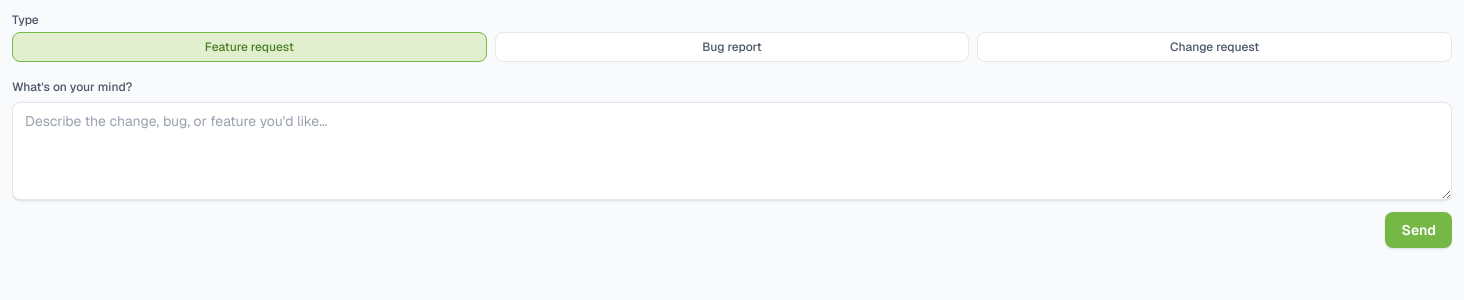
FeatureRequestForm — the typed message survives a failed submit › CLEARS the box on a successful send (React's reset used to do this)
Type "Ship it" into the text box labelled "What's on your mind?" at (732, 151), box [12,102,1452,200]
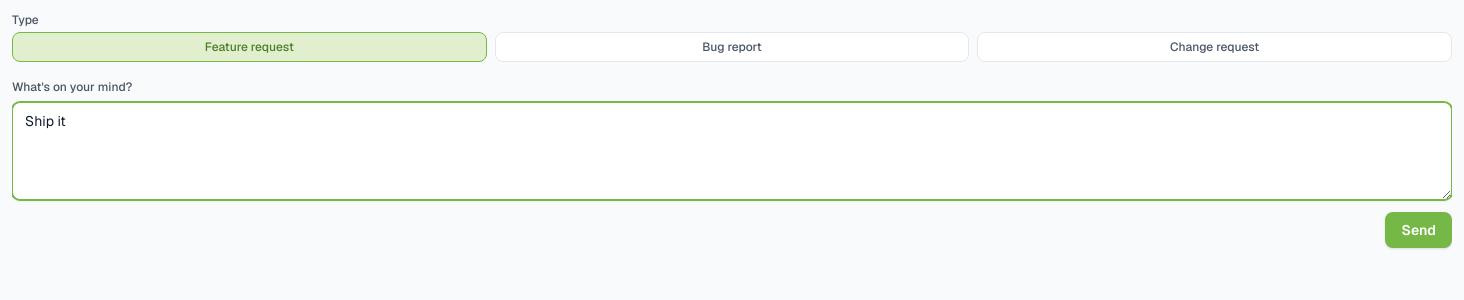
Click the button "Send" at (1419, 230), box [1386,212,1452,248]
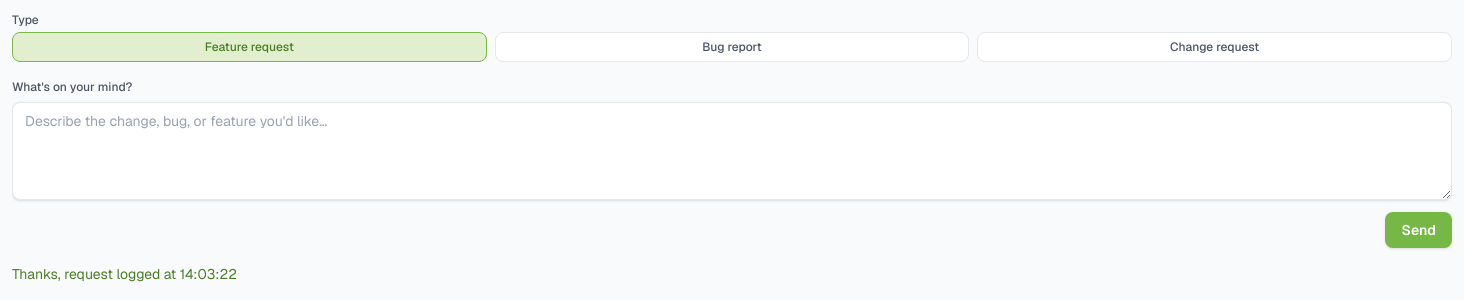
Expected: the text box labelled "What's on your mind?" is empty, [12,102,1452,200]
Expected: the text "Thanks, request logged at 14:03:22" is shown, [12,265,237,283]
